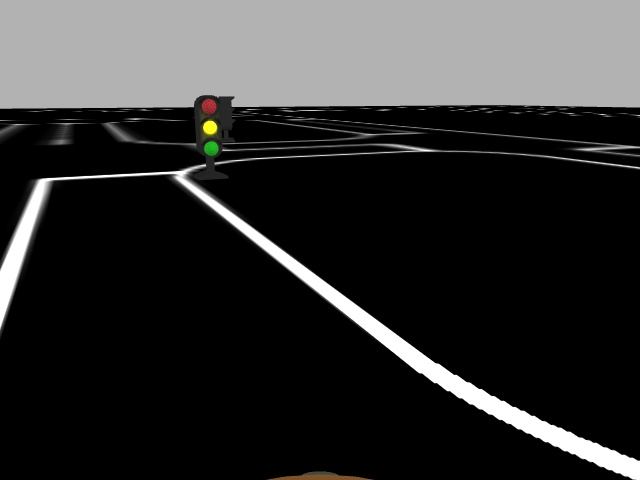yellow_light: (196, 94, 225, 160)
